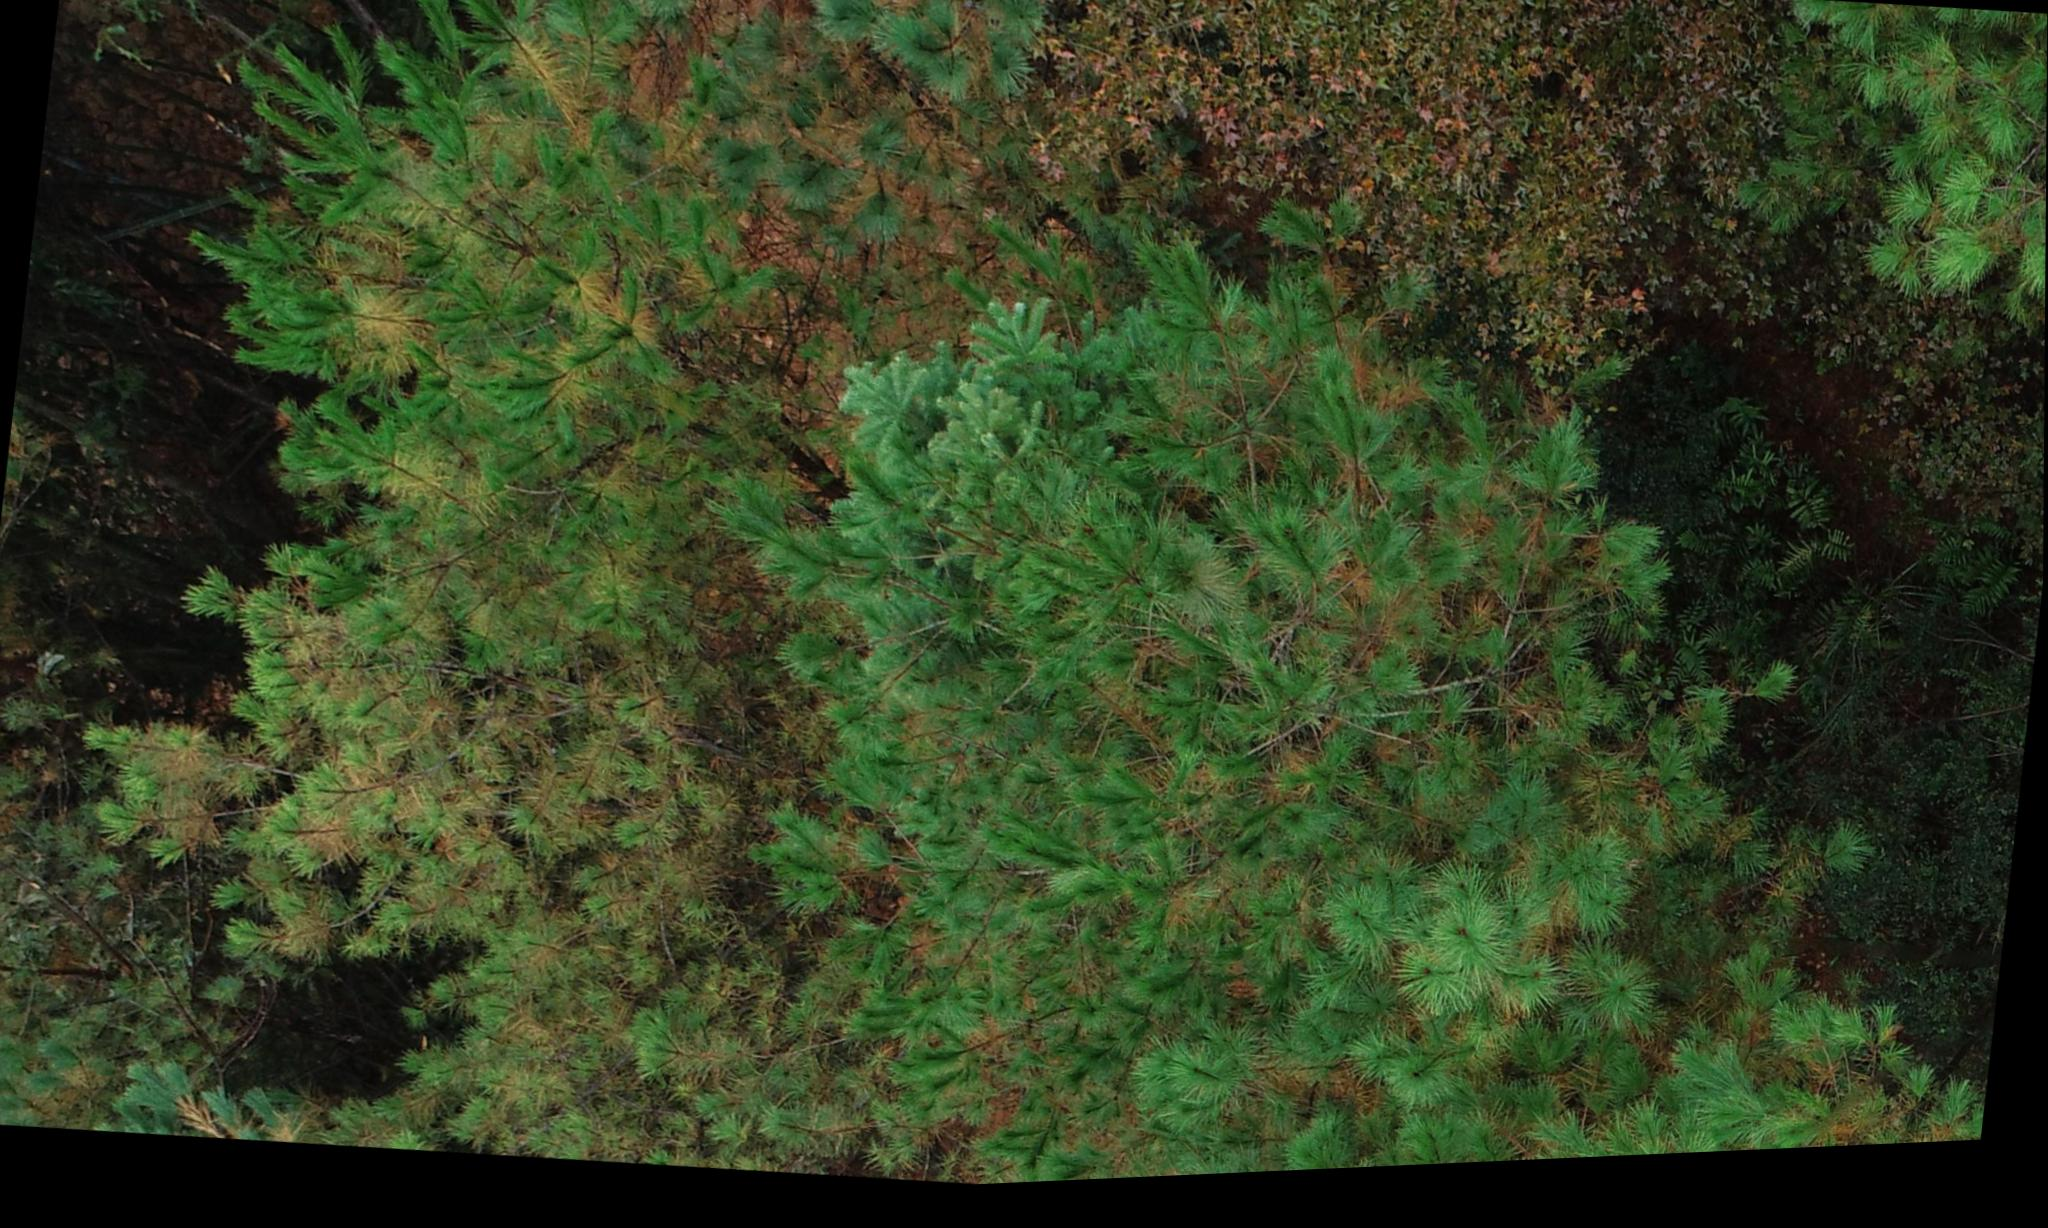light: (121, 0, 1006, 1165), (1055, 241, 1997, 1191)
